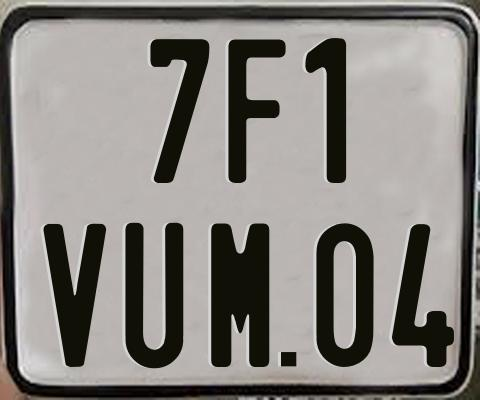0: (316, 222, 379, 368)
1: (305, 35, 348, 181)
4: (390, 221, 452, 364)
7: (149, 39, 212, 184)
F: (226, 36, 287, 183)
M: (208, 223, 271, 368)
U: (124, 220, 188, 369)
V: (40, 223, 108, 366)
